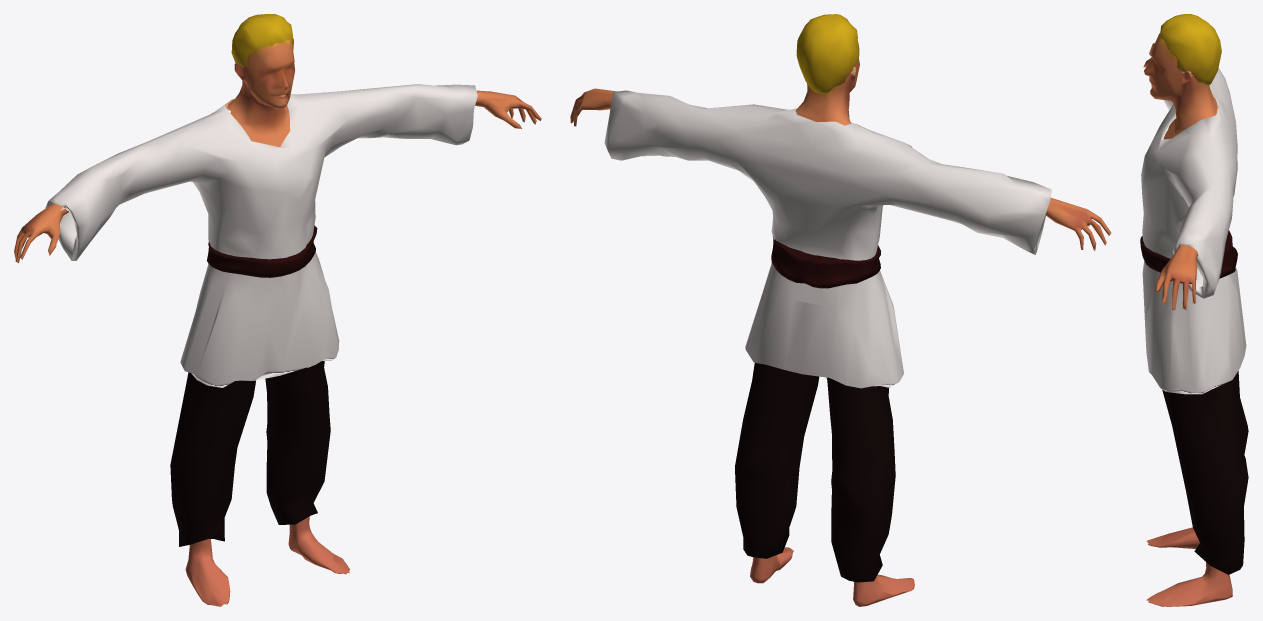
Rendered from Man.fbx.
3 views of the same model, side by side, from view 1: azimuth 30°, elevation 25°; view 2: azimuth 150°, elevation 25°; view 3: azimuth 270°, elevation 25° (orthographic).
Parts seen in each view (by area): view 1: Merged_Extract9; view 2: Merged_Extract9; view 3: Merged_Extract9.
Boxes of the visible parts, bbox=[...] form: Merged_Extract9: bbox=[14, 14, 541, 606]; Merged_Extract9: bbox=[570, 14, 1111, 606]; Merged_Extract9: bbox=[1140, 14, 1248, 606].
Bounding box in the file's own units: 280 × 285 × 50.23.
